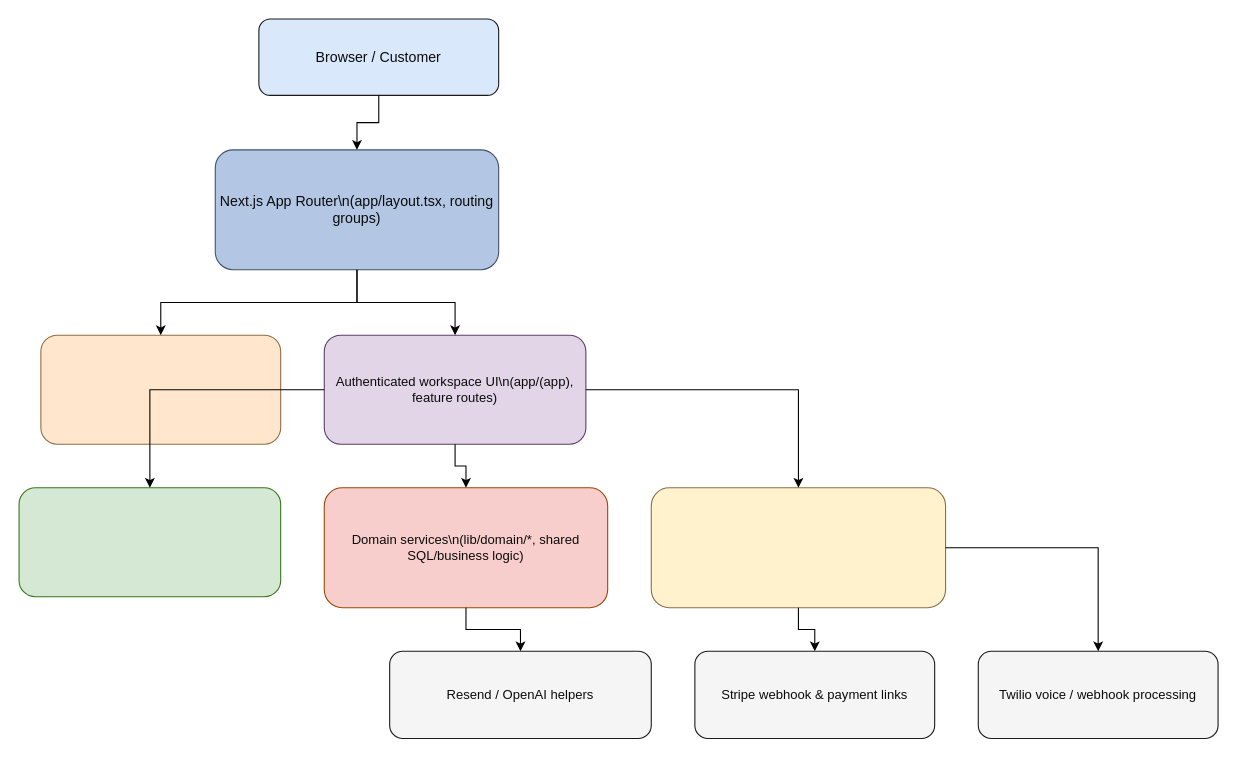
Some shapes in this 1237 by 758 pixel diagram are drawn without their labels. The box of each missing label's shape, as (x1, y1, x2, y2) in pixels:
API & webhook routes\n(app/api/stripe, app/api/webhooks/voice, etc.): (650, 487, 946, 608)
Public marketing + tokenized views\n(app/(marketing), app/public/*): (40, 334, 281, 444)
Supabase\n(createServerClient, workspace RLS): (18, 487, 281, 597)
